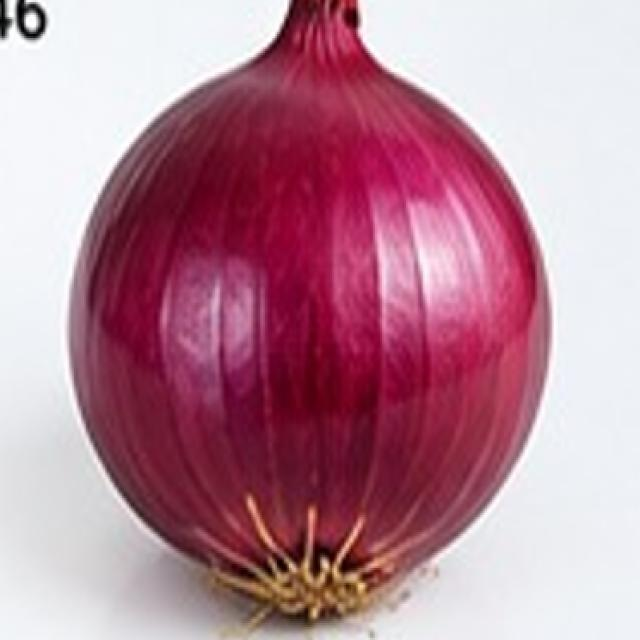healthy: (33, 0, 583, 636), (72, 0, 549, 619), (72, 0, 549, 617), (72, 0, 549, 615)
